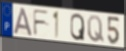1: (52, 10, 61, 41)
5: (107, 15, 121, 46)
A: (13, 7, 33, 37)
F: (32, 9, 50, 37)
Q: (86, 14, 105, 44), (70, 13, 86, 42)
